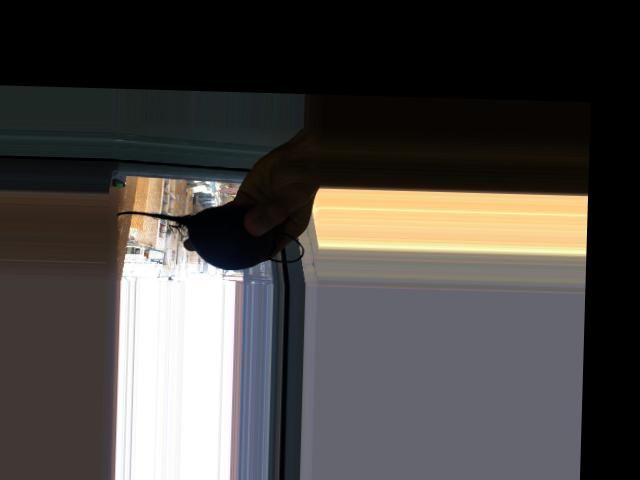beet: (114, 202, 304, 271)
